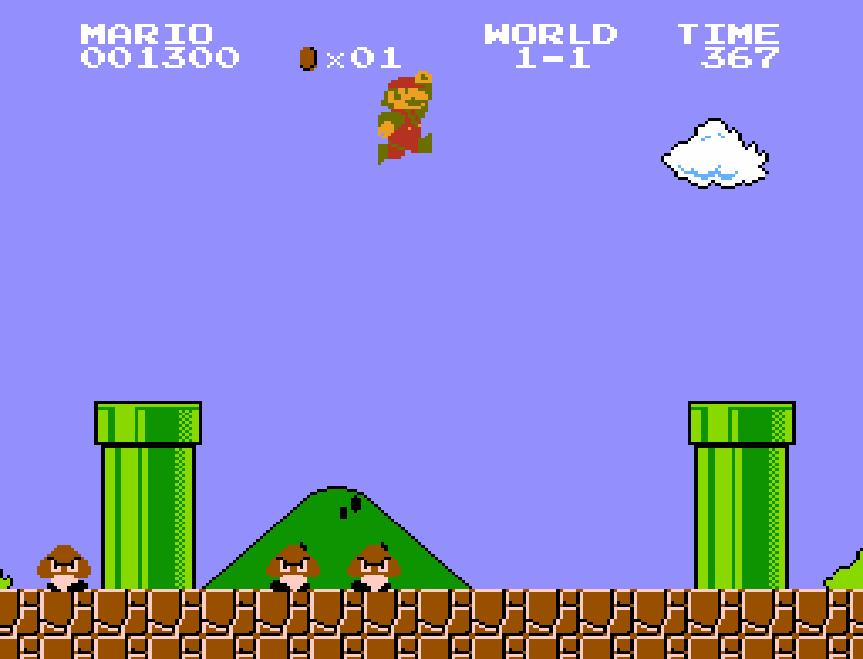big_mario: (376, 68, 434, 166)
